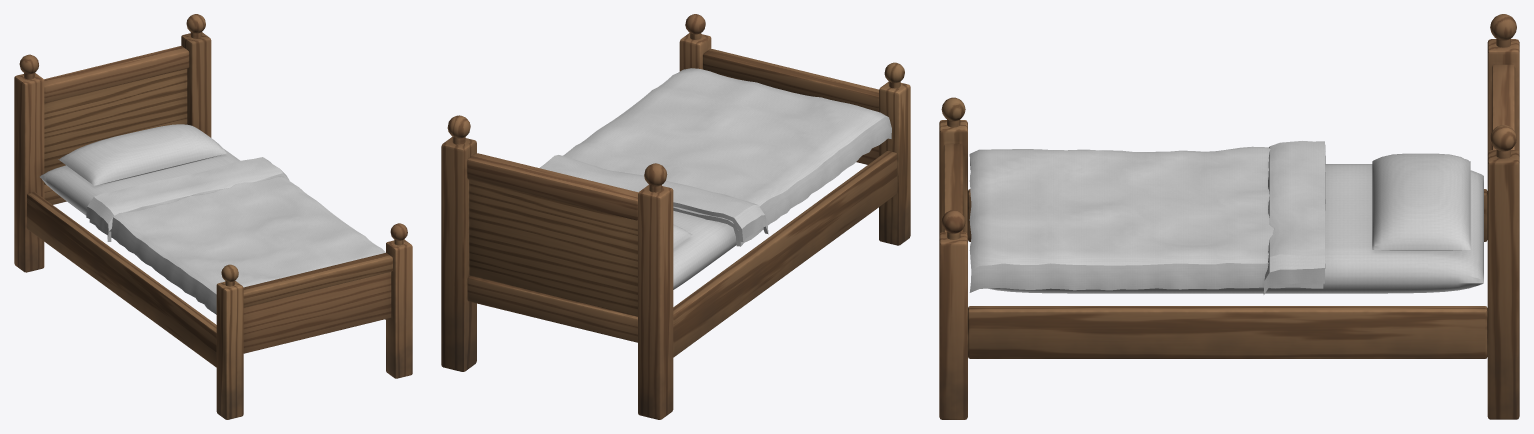
Rendered from bed_single.glb.
The picture shows the model from 3 angles, left to right: view 1: azimuth 30°, elevation 25°; view 2: azimuth 150°, elevation 25°; view 3: azimuth 270°, elevation 25°; orthographic projection. The views are drawn at different scales.
Visible parts, largest first — view 1: bed_single; view 2: bed_single; view 3: bed_single.
Part boxes in pixels (left/top/right/bottom): bed_single: left=14, top=14, right=412, bottom=419; bed_single: left=441, top=14, right=910, bottom=419; bed_single: left=939, top=14, right=1519, bottom=419.
Size of the model in its own units: 0.66 by 0.7126 by 1.3.
2 materials, 2 textured.
